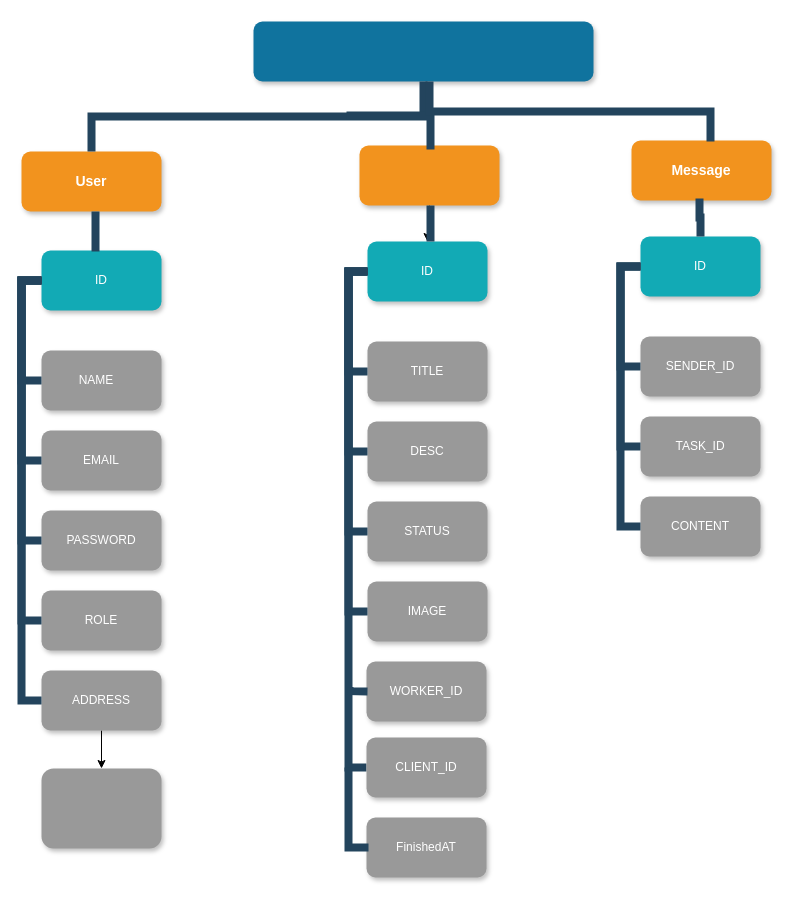
Some shapes in this 794 by 901 pixel diagram are drawn without their labels. Each missing label, with the centre of its shape:
Backen-Project: [424,52]
street city zip: [102,809]
Task: [430,176]
